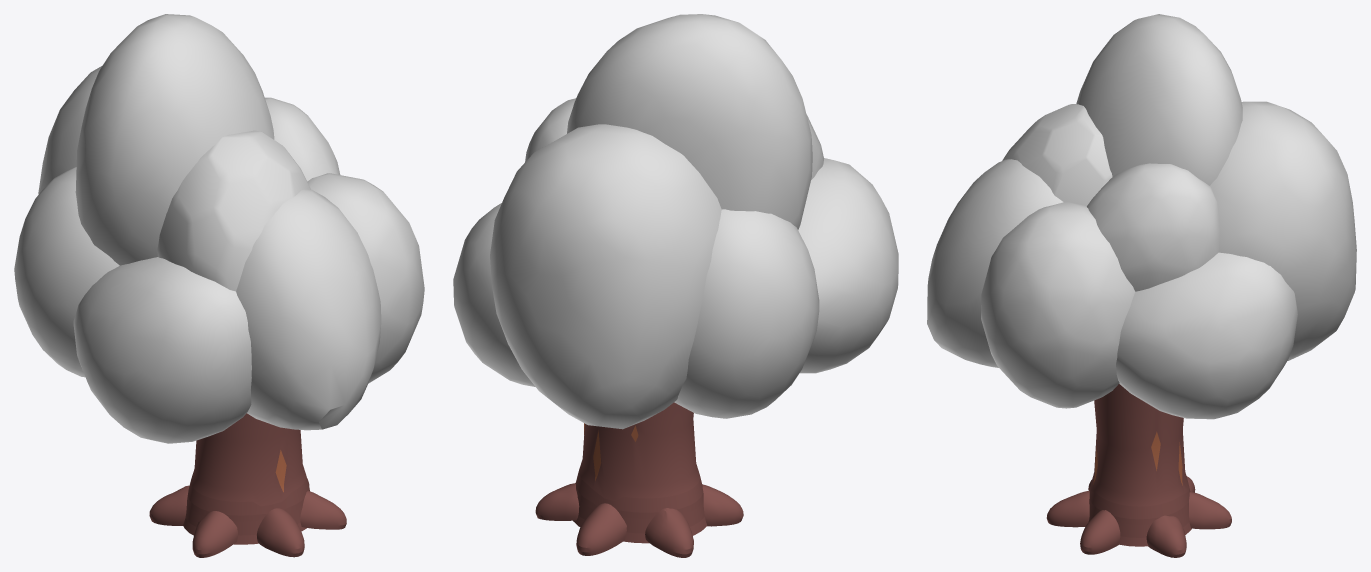
The model's file is arvore-teste3.fbx.
3 views of the same model, side by side, from view 1: azimuth 30°, elevation 25°; view 2: azimuth 150°, elevation 25°; view 3: azimuth 270°, elevation 25° (orthographic). The views are drawn at different scales.
Parts seen in each view (by area): view 1: Icosphere.024, Cylinder.002; view 2: Icosphere.024, Cylinder.002; view 3: Icosphere.024, Cylinder.002.
Boxes of the visible parts, x1,y1,x2,y2 form: Icosphere.024: [14, 14, 424, 443]; Cylinder.002: [149, 413, 346, 557]; Icosphere.024: [453, 14, 898, 429]; Cylinder.002: [535, 402, 743, 557]; Icosphere.024: [927, 14, 1356, 419]; Cylinder.002: [1046, 384, 1231, 557].
Size of the model in its own units: 238 by 355 by 293.
